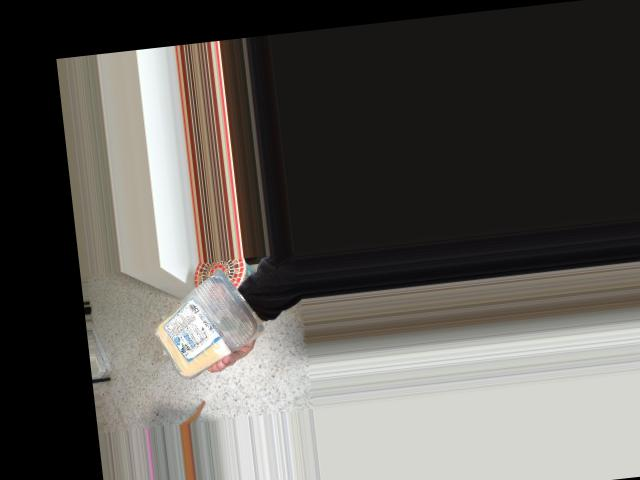cheese: (141, 269, 260, 371)
